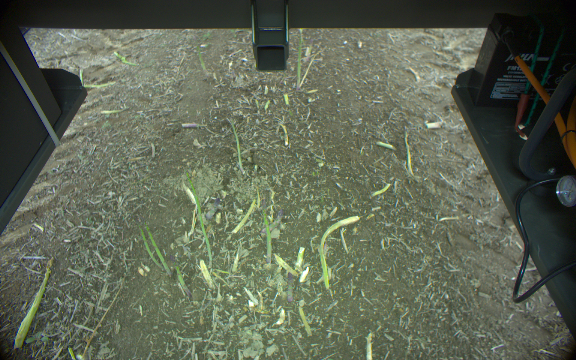aspa: (12, 257, 56, 349), (179, 169, 214, 269), (319, 216, 364, 290), (144, 221, 171, 278), (135, 219, 164, 270), (222, 116, 246, 176), (169, 253, 194, 299), (258, 195, 274, 265), (232, 197, 258, 236), (293, 28, 307, 89), (205, 192, 221, 221), (284, 270, 296, 304), (271, 207, 283, 232)
